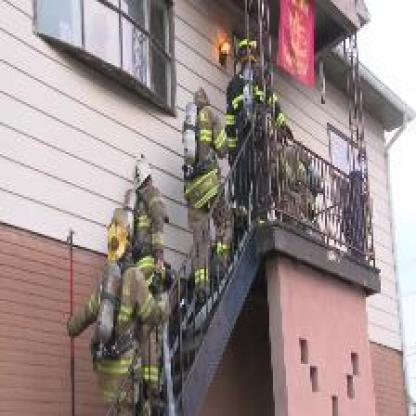other: (276, 0, 324, 94), (207, 25, 236, 70)
